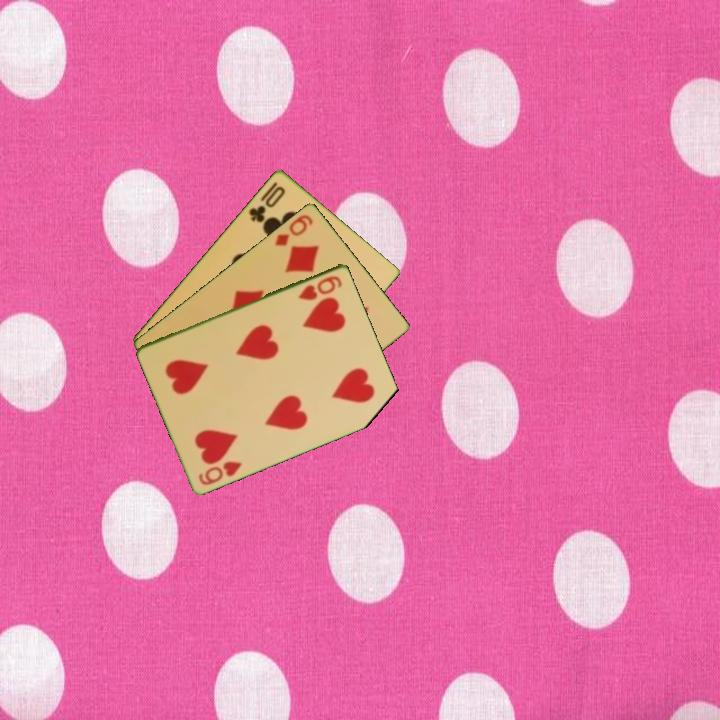10c: (245, 182, 288, 225)
6d: (271, 210, 316, 249)
6h: (295, 272, 345, 303), (195, 457, 245, 488)
